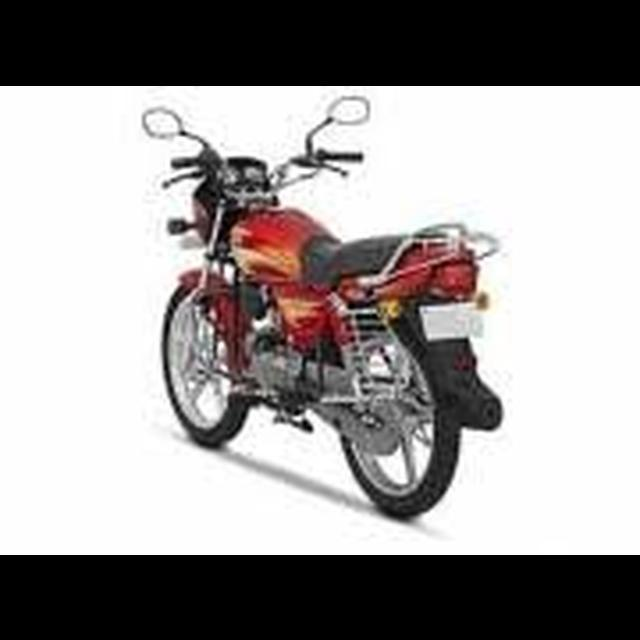motorcycle: (137, 89, 508, 530)
